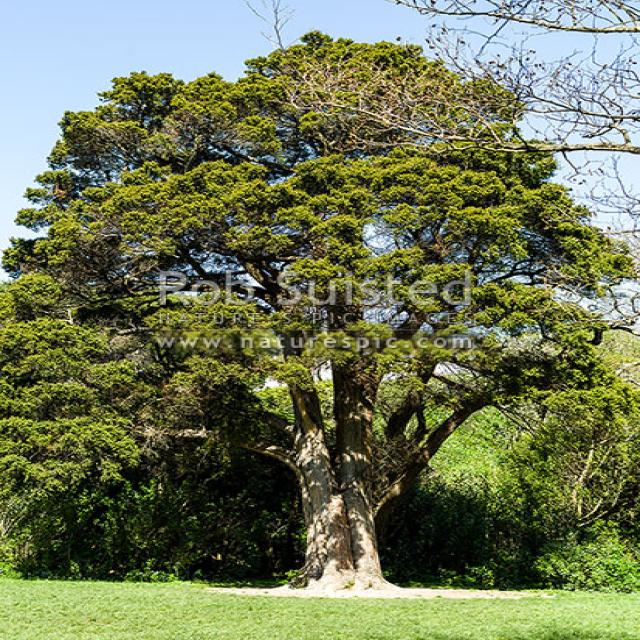Totara: (4, 32, 631, 589)
